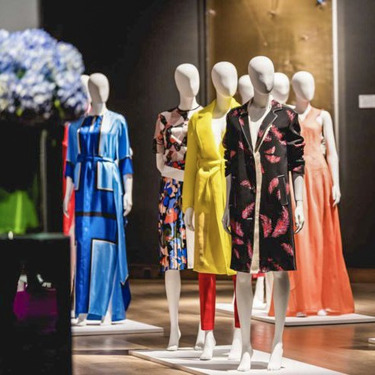person-like: (218, 53, 308, 371), (180, 57, 248, 363), (63, 69, 135, 329), (285, 67, 356, 314), (150, 60, 204, 353)
